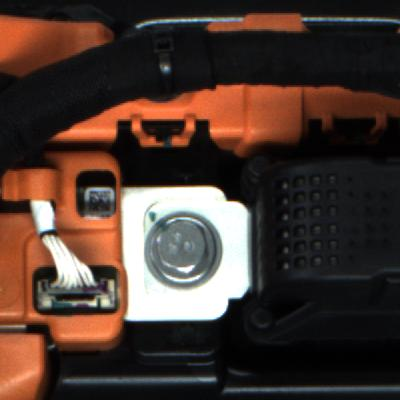nut_b: (138, 200, 239, 294)
